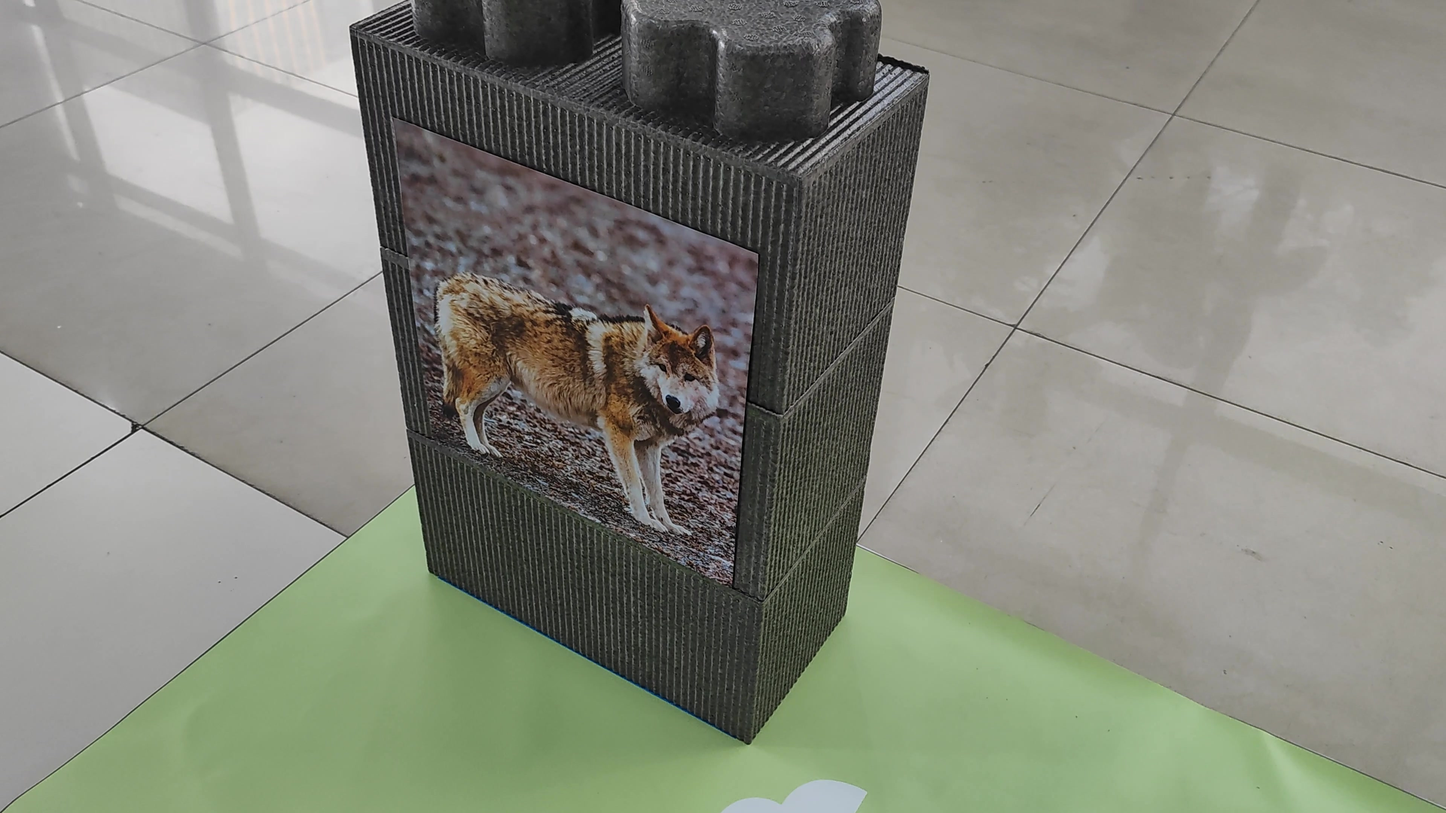wolf: (400, 163, 732, 522)
